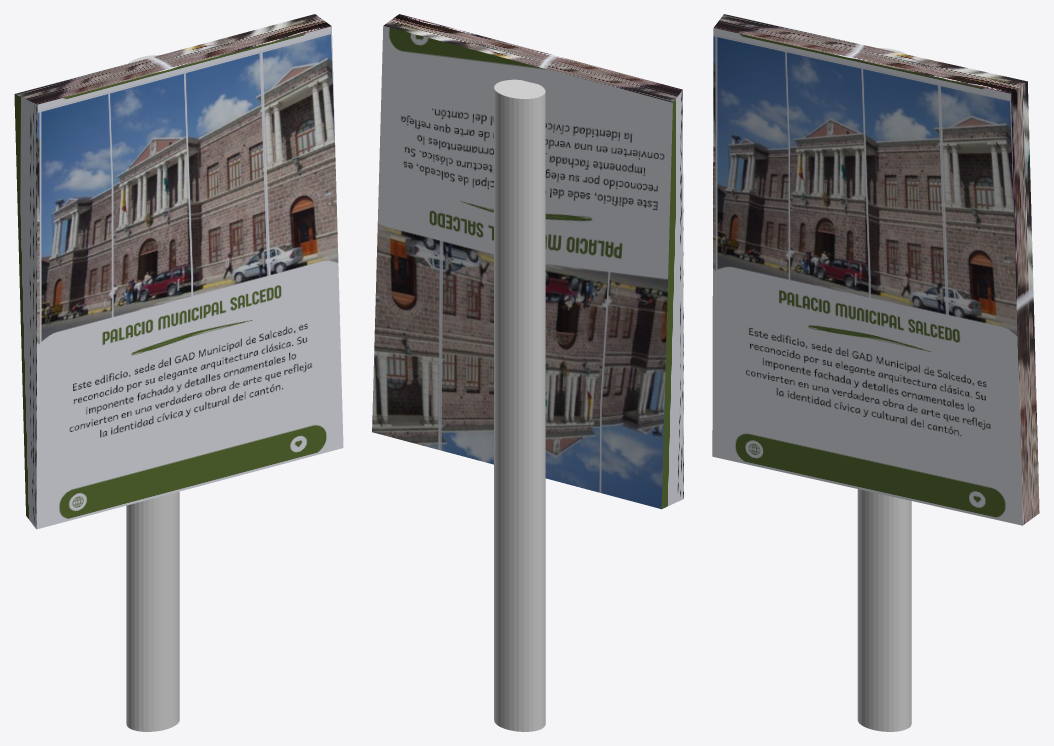
Rendered from Cartel_Palacio.glb.
3 renders of one model, left to right at view 1: azimuth 30°, elevation 25°; view 2: azimuth 150°, elevation 25°; view 3: azimuth 330°, elevation 25°, orthographic. The views are drawn at different scales.
Parts seen in each view (by area): view 1: Cubo, Cilindro; view 2: Cubo, Cilindro; view 3: Cubo, Cilindro.
Boxes of the visible parts, x1,y1,x2,y2 form: Cubo: [14, 14, 343, 529]; Cilindro: [126, 55, 179, 731]; Cubo: [372, 14, 683, 509]; Cilindro: [494, 79, 545, 731]; Cubo: [712, 14, 1039, 525]; Cilindro: [857, 48, 911, 731].
Bounding box in the file's own units: 0.8639 × 1.79 × 0.1819.
1 material, 1 textured.
